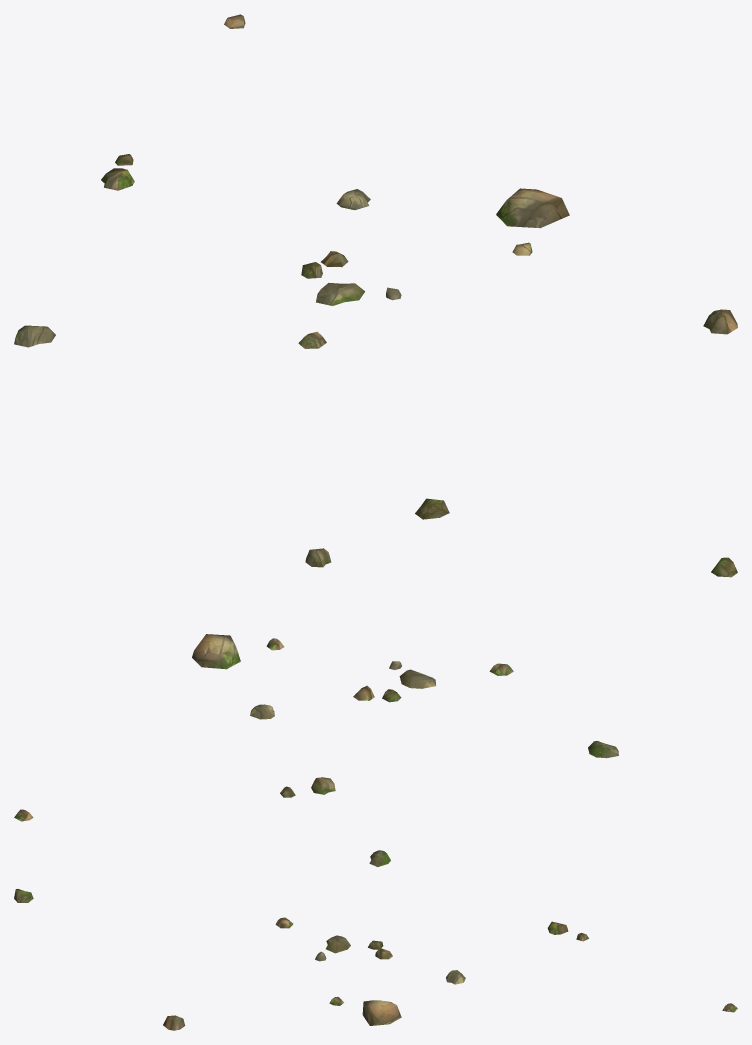
File: daliang_field_d_s01j.fbx
3 views of the same model, one above another, from view 1: azimuth 30°, elevation 25°; view 2: azimuth 150°, elevation 25°; view 3: azimuth 270°, elevation 25° (orthographic). The views are drawn at different scales.
Visible parts, largest first — view 1: daliang_field_d_s01j; view 2: daliang_field_d_s01j; view 3: daliang_field_d_s01j.
Boxes of the visible parts, x1,y1,x2,y2 form: daliang_field_d_s01j: (14, 14, 737, 519); daliang_field_d_s01j: (14, 548, 737, 821); daliang_field_d_s01j: (14, 850, 737, 1030).
Bounding box in the file's own units: 444 × 19.26 × 769.
